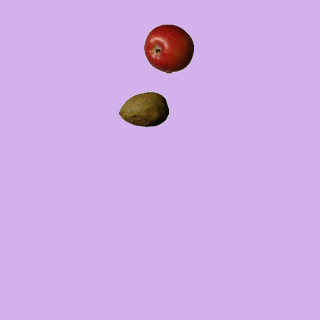Apple Braeburn: (143, 23, 193, 73)
Papaya: (118, 84, 168, 134)
